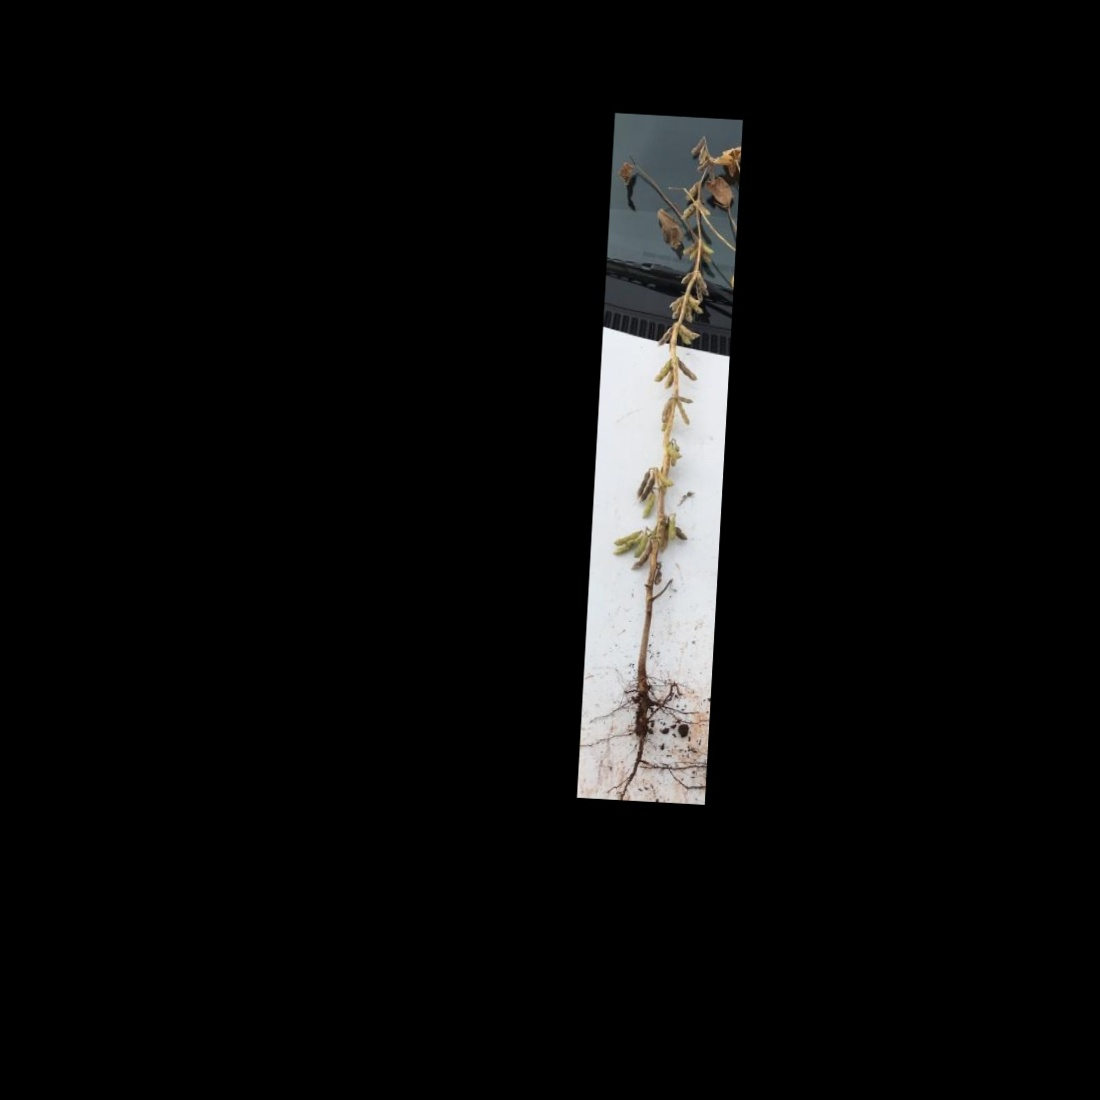pod: (676, 356, 700, 382), (675, 400, 693, 427), (633, 532, 649, 559), (642, 490, 655, 523), (655, 471, 677, 488), (674, 524, 692, 543), (668, 514, 677, 541)
soy: (587, 133, 738, 781)
